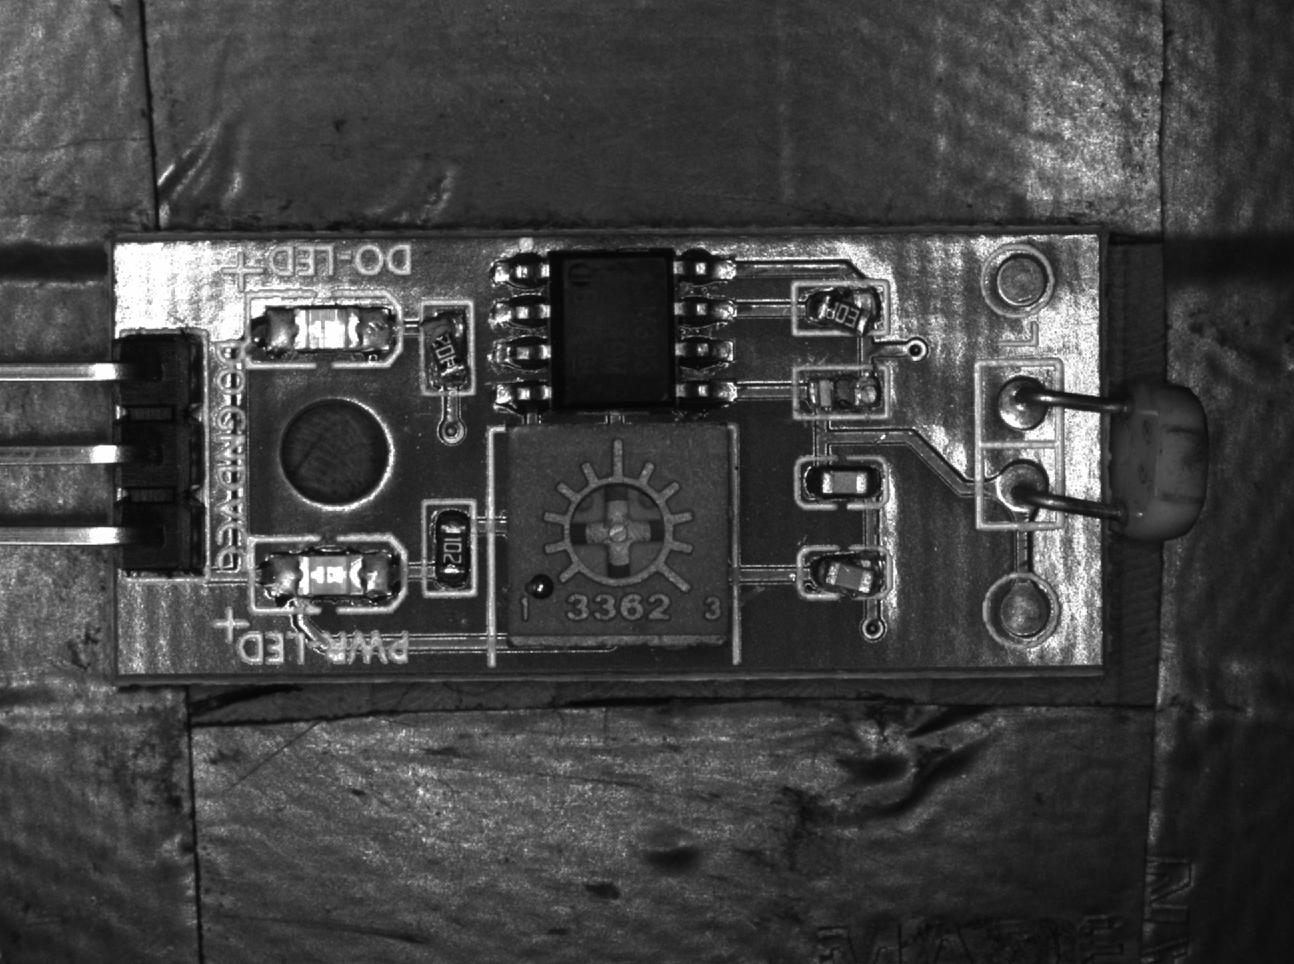lifted: (793, 282, 888, 339), (420, 301, 475, 397), (798, 547, 891, 601)
miss: (795, 366, 887, 422)
ok: (422, 500, 477, 597), (795, 457, 889, 510)
